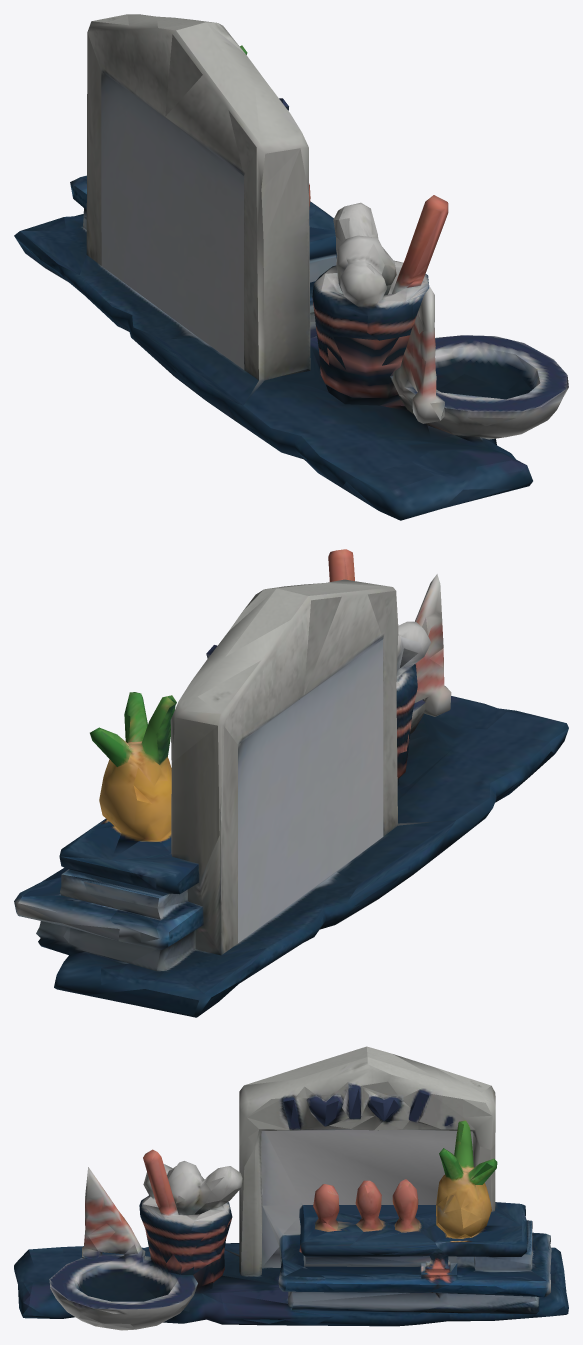
File: Buil_SouvenirStand_Lv1.fbx
3 views of the same model, one above another, from view 1: azimuth 30°, elevation 25°; view 2: azimuth 150°, elevation 25°; view 3: azimuth 270°, elevation 25° (orthographic). The views are drawn at different scales.
Visible parts, largest first — view 1: tripo_node_3aac9e97.003; view 2: tripo_node_3aac9e97.003; view 3: tripo_node_3aac9e97.003.
Part boxes in pixels (x1,y1,x2,y2): tripo_node_3aac9e97.003: (14, 14, 568, 520); tripo_node_3aac9e97.003: (14, 549, 568, 1017); tripo_node_3aac9e97.003: (14, 1046, 568, 1330).
Size of the model in its own units: 16 by 18.79 by 40.97.
